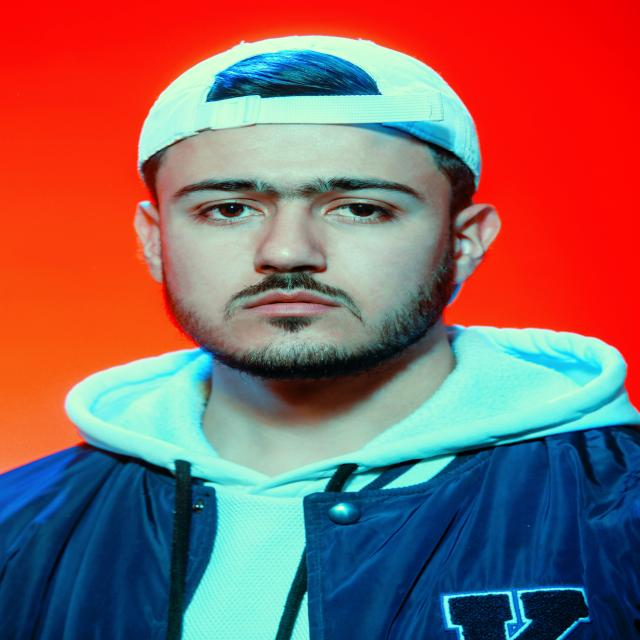human: (2, 30, 640, 638)
